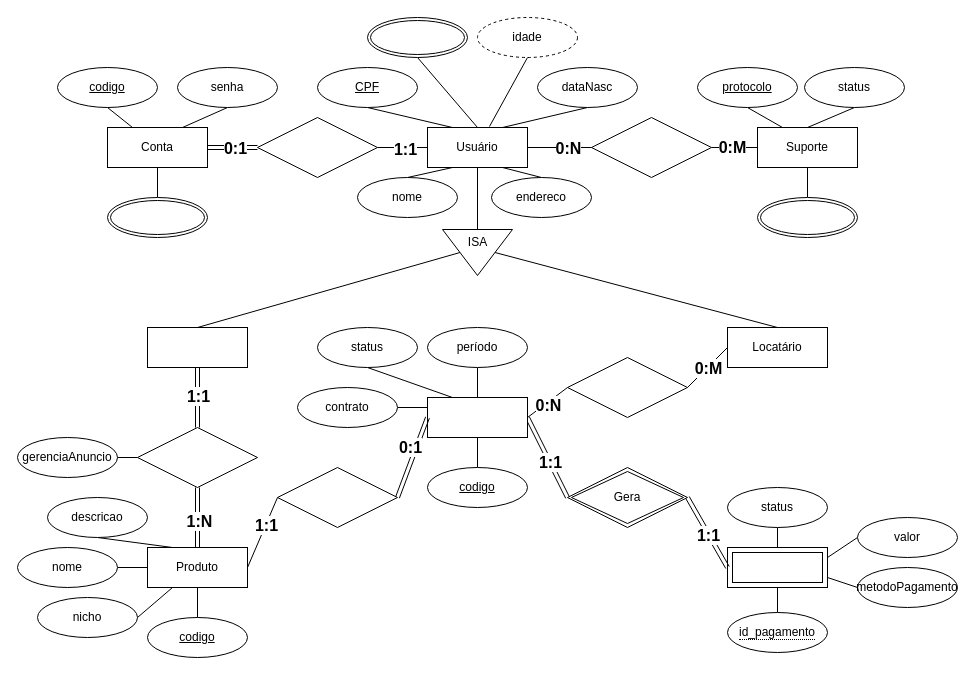
Some shapes in this 975 by 675 pixel diagram are drawn without their labels. Here are the shapes that lost their labels. From the top down, the centre of each, then its label:
At pixel 417 37: "telefone".
At pixel 317 147: "Cadastro".
At pixel 651 147: "Atendimento".
At pixel 157 217: "email".
At pixel 807 217: "tipoProblema".
At pixel 197 347: "Locador".
At pixel 627 387: "Solicitação".
At pixel 477 417: "Aluguel".
At pixel 197 457: "Anuncia".
At pixel 337 497: "Envolvimento".
At pixel 777 567: "Pagamento".
